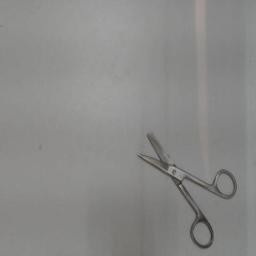Dressing Scissors: (128, 124, 242, 252)
